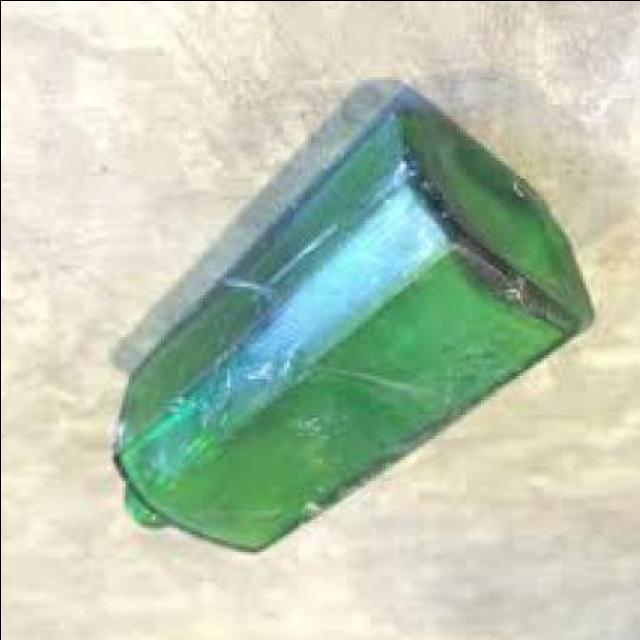kaca: (107, 111, 590, 554)
